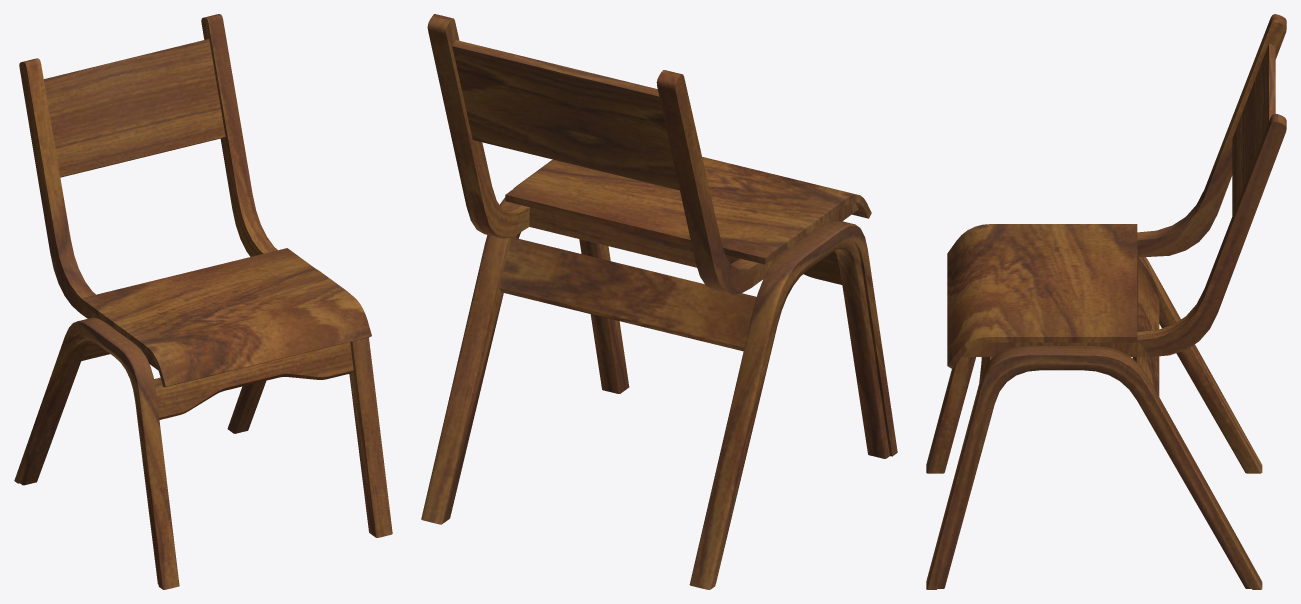
The model's file is Wooden_Chair.FBX.
3 views of the same model, side by side, from view 1: azimuth 30°, elevation 25°; view 2: azimuth 150°, elevation 25°; view 3: azimuth 270°, elevation 25° (orthographic). The views are drawn at different scales.
Visible parts, largest first — view 1: Chair; view 2: Chair; view 3: Chair.
Part boxes in pixels (bbox=[...]): Chair: bbox=[14, 14, 392, 589]; Chair: bbox=[421, 14, 897, 589]; Chair: bbox=[926, 14, 1286, 589].
Size of the model in its own units: 23.57 by 40.2 by 28.57.
1 material, 1 textured.
